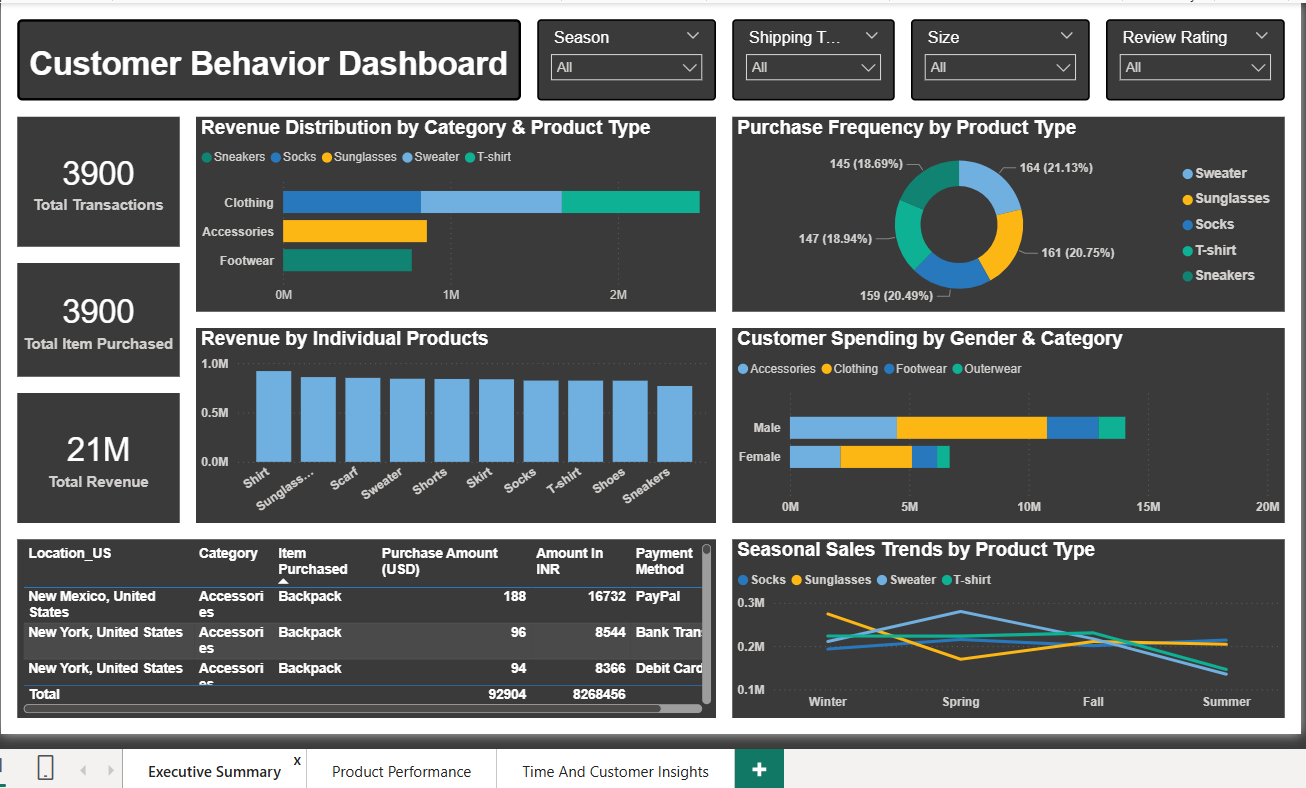

Layout of this report page (visuals, bound fields, positions):
{"tool":"powerbi","page":{"name":"Executive Summary","canvas":[1280,720],"ordinal":0},"visuals":[{"type":"textbox","box":[16,16,496,80],"z":0},{"type":"card","fields":{"Values":["shopping_behavior_updated.Total ID"]},"box":[16,112,160,128],"z":1000},{"type":"card","fields":{"Values":["shopping_behavior_updated.Total Item purchased"]},"box":[16,256,160,112],"z":2000},{"type":"card","fields":{"Values":["shopping_behavior_updated.Total Amount"]},"box":[16,384,160,128],"z":3000},{"type":"barChart","title":"Revenue Distribution by Category & Product Type","fields":{"Category":["shopping_behavior_updated.Category"],"Y":["Sum(shopping_behavior_updated.Amount INR)"],"Series":["shopping_behavior_updated.Item Purchased"]},"box":[192,112,512,192],"z":4000},{"type":"clusteredColumnChart","title":"Revenue by Individual Products","fields":{"Category":["shopping_behavior_updated.Item Purchased"],"Y":["Sum(shopping_behavior_updated.Amount INR)"]},"box":[192,320,512,192],"z":5000},{"type":"donutChart","title":"Purchase Frequency by Product Type","fields":{"Category":["shopping_behavior_updated.Item Purchased"],"Y":["CountNonNull(shopping_behavior_updated.Frequency of Purchases)"]},"box":[720,112,544,192],"z":6000},{"type":"barChart","title":"Customer Spending by Gender & Category","fields":{"Category":["shopping_behavior_updated.Gender"],"Y":["shopping_behavior_updated.Total Amount"],"Series":["shopping_behavior_updated.Category"]},"box":[720,320,544,192],"z":7000},{"type":"lineChart","title":"Seasonal Sales Trends by Product Type","fields":{"Category":["shopping_behavior_updated.Season"],"Y":["shopping_behavior_updated.Total Amount"],"Series":["shopping_behavior_updated.Item Purchased"]},"box":[720,528,544,176],"z":8000},{"type":"tableEx","fields":{"Values":["shopping_behavior_updated.Location_US","shopping_behavior_updated.Category","shopping_behavior_updated.Item Purchased","Sum(shopping_behavior_updated.Purchase Amount (USD))","Sum(shopping_behavior_updated.Amount INR)","shopping_behavior_updated.Payment Method"]},"box":[16,528,688,176],"z":9000},{"type":"slicer","fields":{"Values":["shopping_behavior_updated.Season"]},"box":[528,16,176,80],"z":10000},{"type":"slicer","fields":{"Values":["shopping_behavior_updated.Shipping Type"]},"box":[720,16,160,80],"z":11000},{"type":"slicer","fields":{"Values":["shopping_behavior_updated.Size"]},"box":[896,16,176,80],"z":12000},{"type":"slicer","fields":{"Values":["shopping_behavior_updated.Review Rating"]},"box":[1088,16,176,80],"z":13000}]}

Visuals, with their boxes in screenshot pixels (x1, y1, x2, y2):
textbox: l=19, t=19, r=519, b=100
card - shopping_behavior_updated.Total ID: l=19, t=116, r=180, b=245
card - shopping_behavior_updated.Total Item purchased: l=19, t=261, r=180, b=374
card - shopping_behavior_updated.Total Amount: l=19, t=390, r=180, b=519
"Revenue Distribution by Category & Product Type" barChart: l=197, t=116, r=712, b=309
"Revenue by Individual Products" clusteredColumnChart: l=197, t=325, r=712, b=519
"Purchase Frequency by Product Type" donutChart: l=728, t=116, r=1275, b=309
"Customer Spending by Gender & Category" barChart: l=728, t=325, r=1275, b=519
"Seasonal Sales Trends by Product Type" lineChart: l=728, t=535, r=1275, b=712
tableEx - shopping_behavior_updated.Location_US x shopping_behavior_updated.Category: l=19, t=535, r=712, b=712
slicer - shopping_behavior_updated.Season: l=535, t=19, r=712, b=100
slicer - shopping_behavior_updated.Shipping Type: l=728, t=19, r=889, b=100
slicer - shopping_behavior_updated.Size: l=905, t=19, r=1082, b=100
slicer - shopping_behavior_updated.Review Rating: l=1098, t=19, r=1275, b=100
